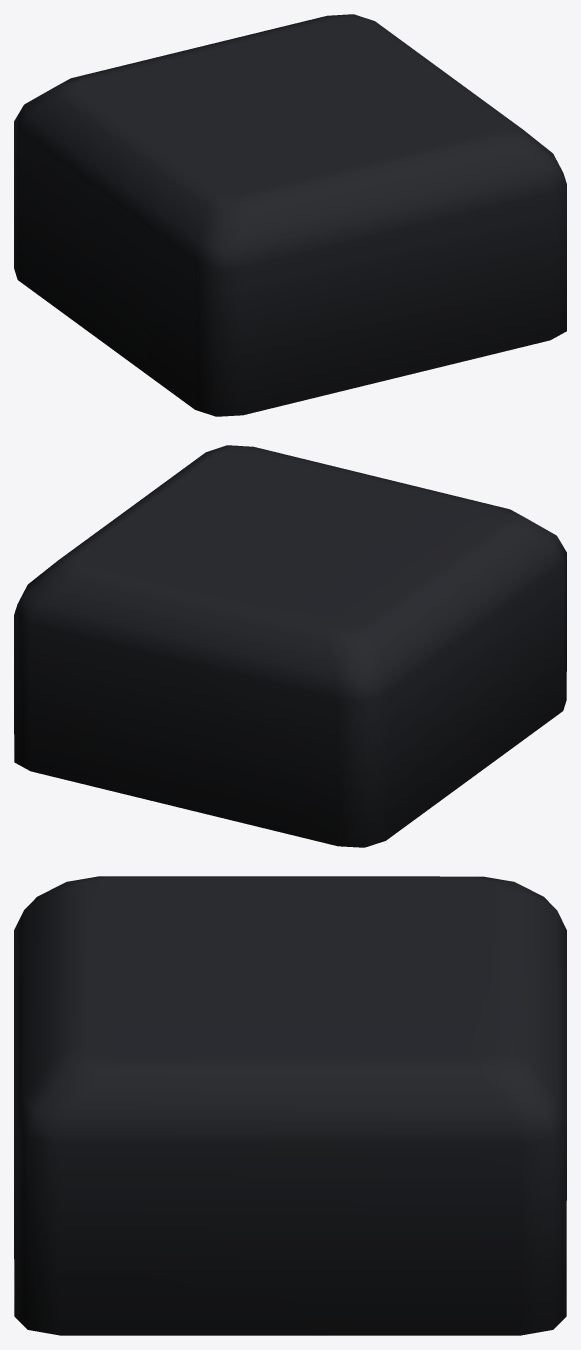
The model's file is Tastino_Numerico.fbx.
3 views of the same model, one above another, from view 1: azimuth 30°, elevation 25°; view 2: azimuth 150°, elevation 25°; view 3: azimuth 270°, elevation 25° (orthographic). The views are drawn at different scales.
Parts seen in each view (by area): view 1: Tastino_Numerico; view 2: Tastino_Numerico; view 3: Tastino_Numerico.
Boxes of the visible parts, box(x1,y1,x2,y2) form: Tastino_Numerico: box(14, 14, 566, 416); Tastino_Numerico: box(14, 445, 566, 847); Tastino_Numerico: box(14, 876, 566, 1335).
Size of the model in its own units: 2.21 by 1.1 by 2.21.
1 material, 1 textured.
